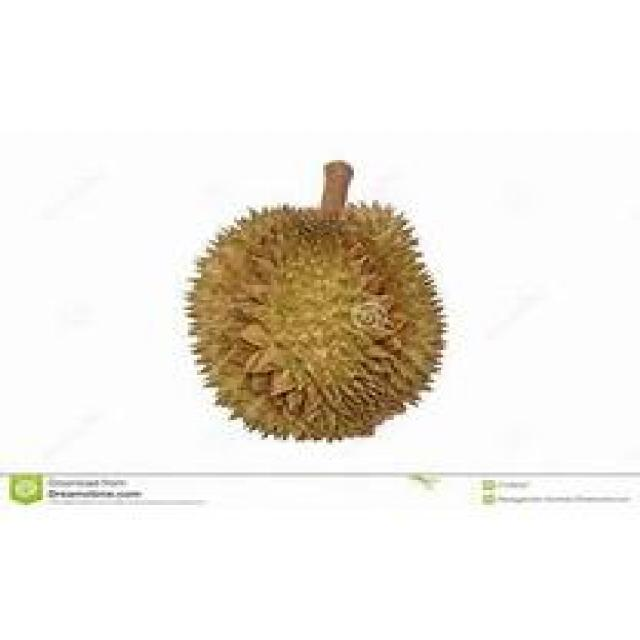Fruit: (114, 182, 489, 490)
